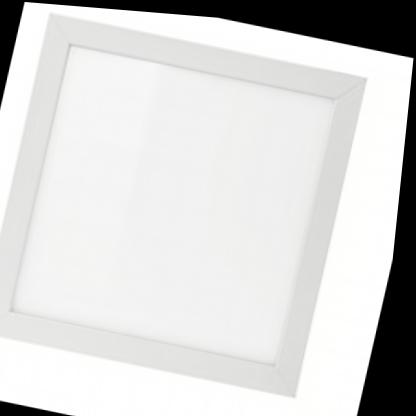Lamp: (0, 0, 385, 416)
